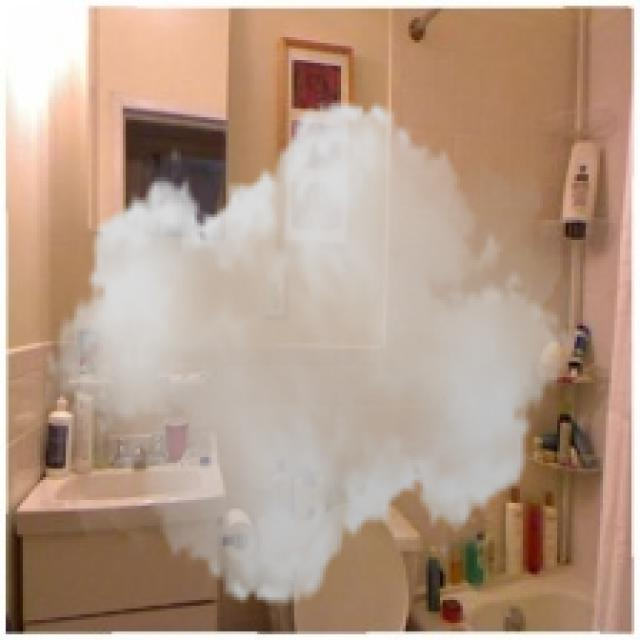smoke: (46, 80, 574, 626)
